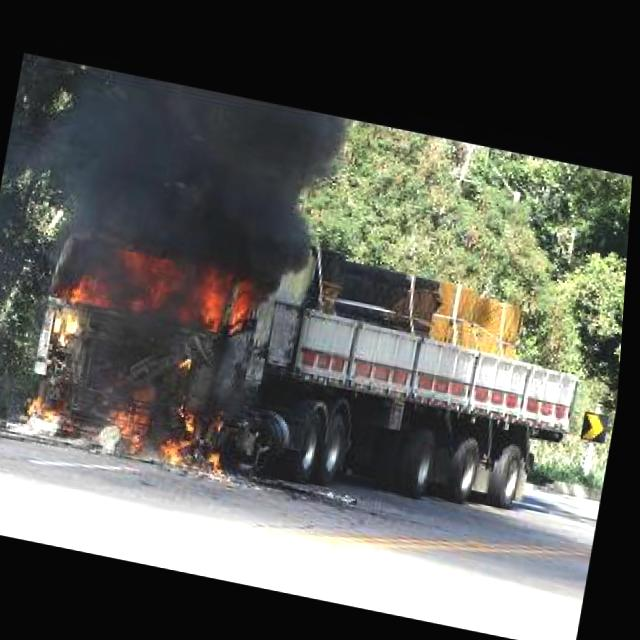Fire: (60, 205, 268, 344), (53, 229, 260, 335), (155, 393, 243, 485), (103, 379, 162, 462), (101, 371, 160, 449), (22, 378, 91, 440), (20, 387, 75, 422), (161, 428, 196, 462), (178, 401, 202, 429), (210, 443, 232, 473)
Smoke: (21, 47, 356, 297)
